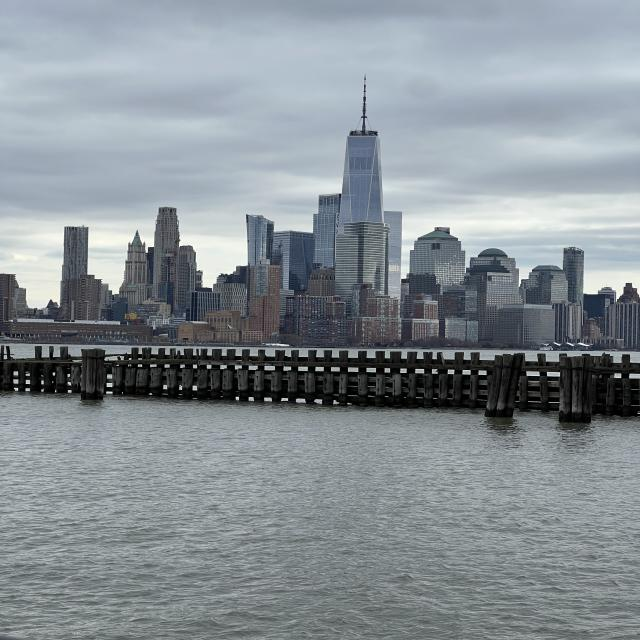WTC: (338, 73, 386, 225)
